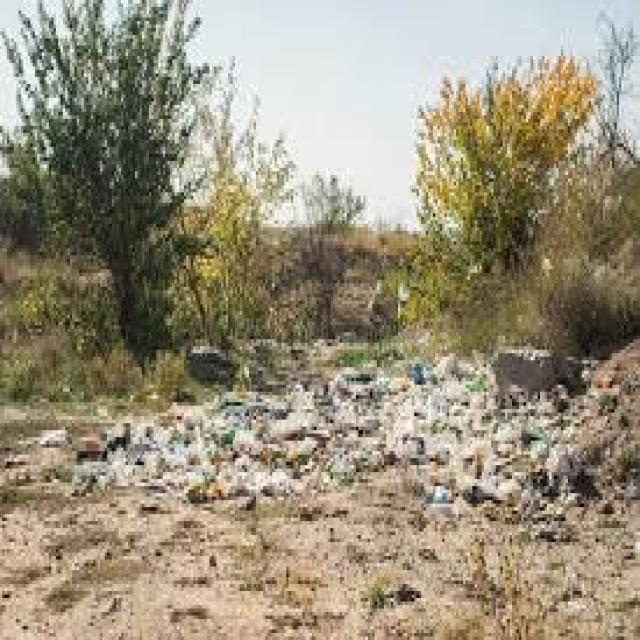garbage: (81, 347, 588, 497)
